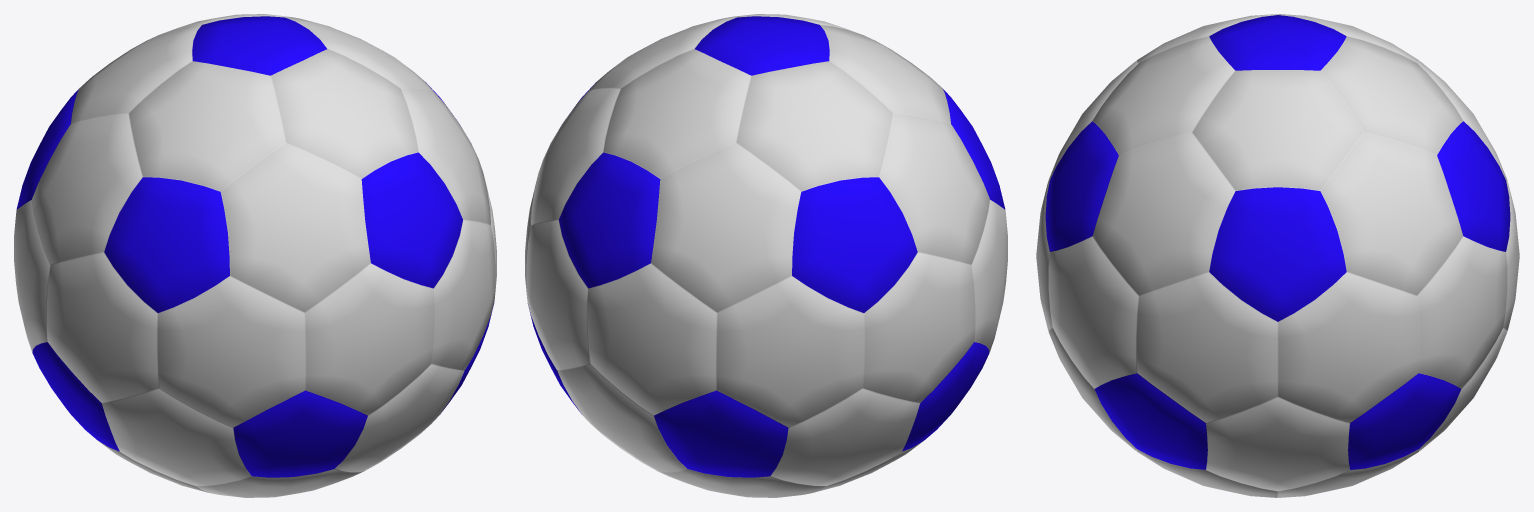
Rendered from BlueSoccerBall.glb.
The picture shows the model from 3 angles, left to right: view 1: azimuth 30°, elevation 25°; view 2: azimuth 150°, elevation 25°; view 3: azimuth 270°, elevation 25°; orthographic projection.
Parts seen in each view (by area): view 1: Icosphere.002; view 2: Icosphere.002; view 3: Icosphere.002.
Part boxes in pixels (x1,y1,x2,y2): Icosphere.002: (14, 14, 496, 497); Icosphere.002: (525, 14, 1007, 497); Icosphere.002: (1036, 14, 1519, 497).
Size of the model in its own units: 1.85 by 1.86 by 1.85.
